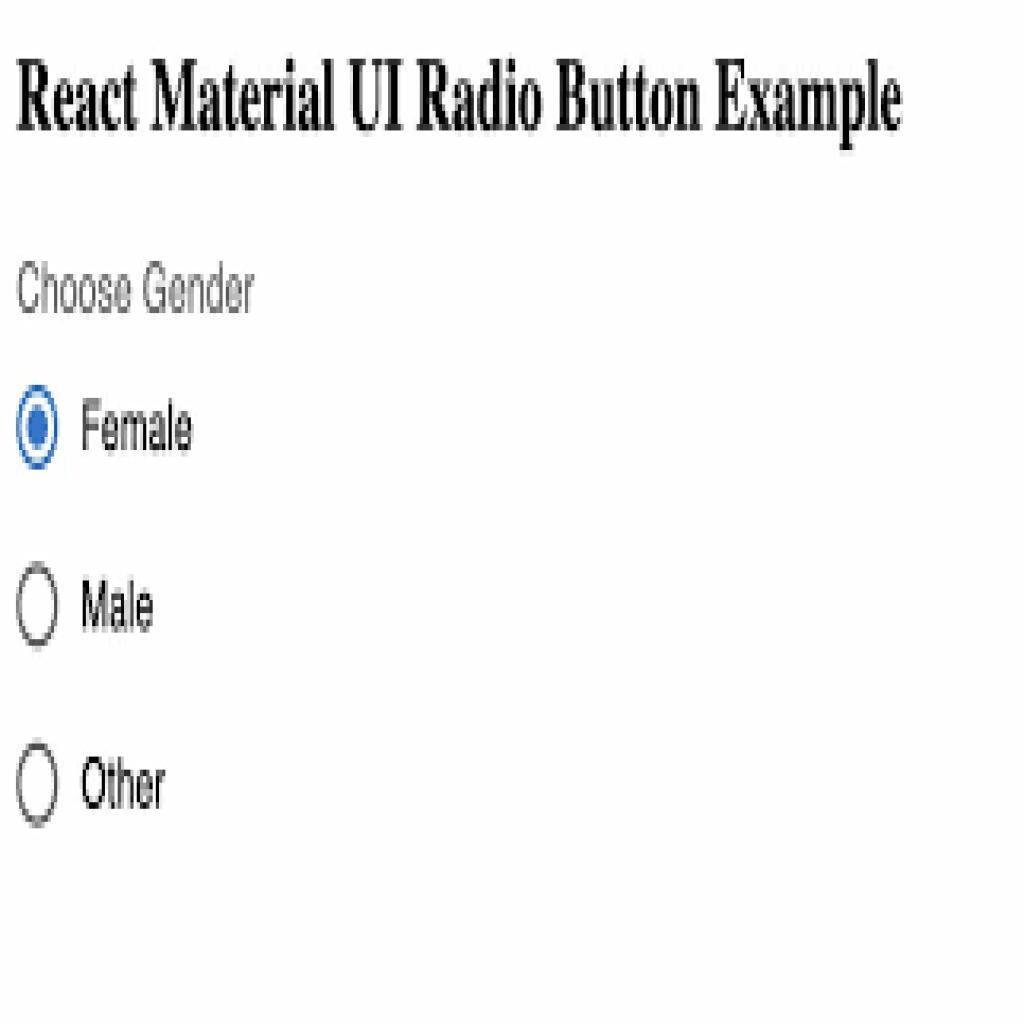radio: (10, 555, 66, 659), (16, 384, 66, 484), (11, 737, 61, 833)
